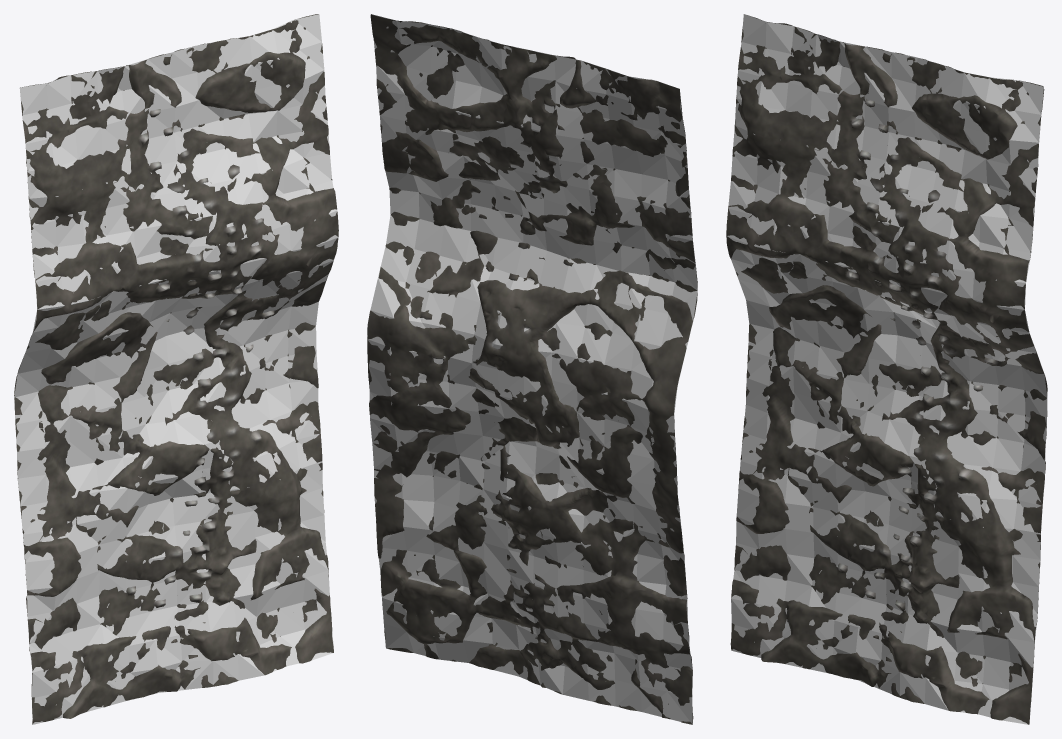
The model's file is test_wall.glb.
3 renders of one model, left to right at view 1: azimuth 30°, elevation 25°; view 2: azimuth 150°, elevation 25°; view 3: azimuth 330°, elevation 25°, orthographic. The views are drawn at different scales.
Parts seen in each view (by area): view 1: wall, col_wall; view 2: col_wall, wall; view 3: wall, col_wall.
Part boxes in pixels (bbox=[...]): wall: bbox=[14, 14, 338, 724]; col_wall: bbox=[14, 14, 338, 724]; col_wall: bbox=[368, 14, 697, 723]; wall: bbox=[367, 14, 697, 724]; wall: bbox=[726, 15, 1047, 724]; col_wall: bbox=[727, 14, 1047, 724].
Bounding box in the file's own units: 6 × 12 × 1.16.
Materials: 1 (1 with a texture image).
